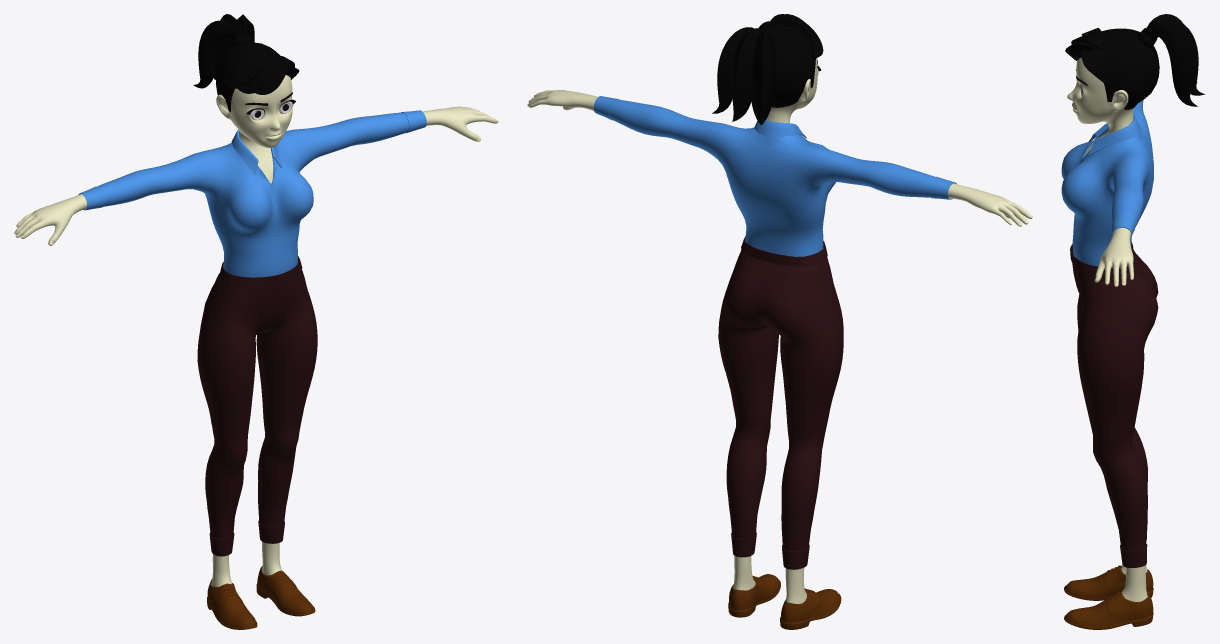
Rendered from girl_3.gltf.
3 renders of one model, left to right at view 1: azimuth 30°, elevation 25°; view 2: azimuth 150°, elevation 25°; view 3: azimuth 270°, elevation 25°, orthographic. The views are drawn at different scales.
Parts seen in each view (by area): view 1: Trouser, T-shirt, Body, Hair.001, Shoes; view 2: Trouser, T-shirt, Hair.001, Body, Shoes; view 3: Trouser, T-shirt, Hair.001, Body, Shoes.
Boxes of the visible parts, x1,y1,x2,y2 form: Trouser: [197, 256, 317, 556]; T-shirt: [78, 110, 426, 277]; Body: [14, 75, 498, 586]; Hair.001: [193, 14, 299, 111]; Shoes: [207, 566, 315, 629]; Trouser: [718, 236, 843, 569]; T-shirt: [593, 96, 956, 256]; Hair.001: [712, 14, 823, 125]; Body: [527, 58, 1032, 603]; Shoes: [728, 574, 841, 629]; Trouser: [1070, 242, 1158, 567]; T-shirt: [1061, 100, 1153, 266]; Hair.001: [1065, 14, 1205, 109]; Body: [1067, 58, 1147, 601]; Shoes: [1064, 565, 1153, 629].
Size of the model in its own units: 6.55 by 7.51 by 1.66.
